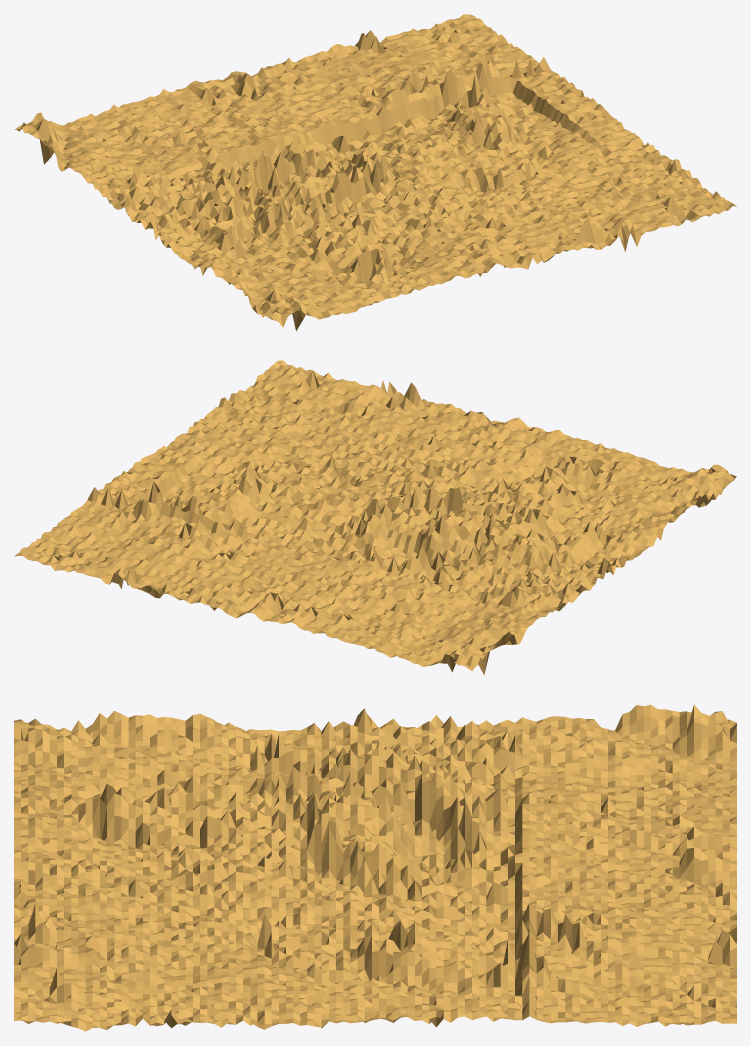
The picture shows the model from 3 angles, top to bottom: view 1: azimuth 30°, elevation 25°; view 2: azimuth 150°, elevation 25°; view 3: azimuth 270°, elevation 25°; orthographic projection. The views are drawn at different scales.
Visible parts, largest first — view 1: Plane; view 2: Plane; view 3: Plane.
Boxes of the visible parts, x1,y1,x2,y2 form: Plane: (14,14,736,331); Plane: (14,360,736,674); Plane: (14,704,736,1031).
Size of the model in its own units: 500 by 75.43 by 500.
